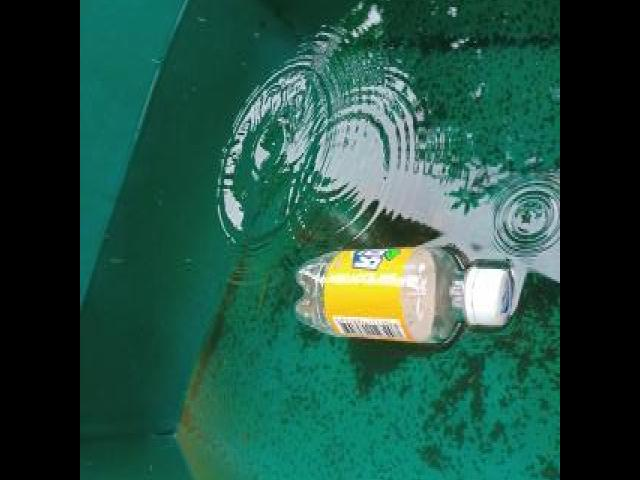Bottle: (289, 236, 521, 354)
